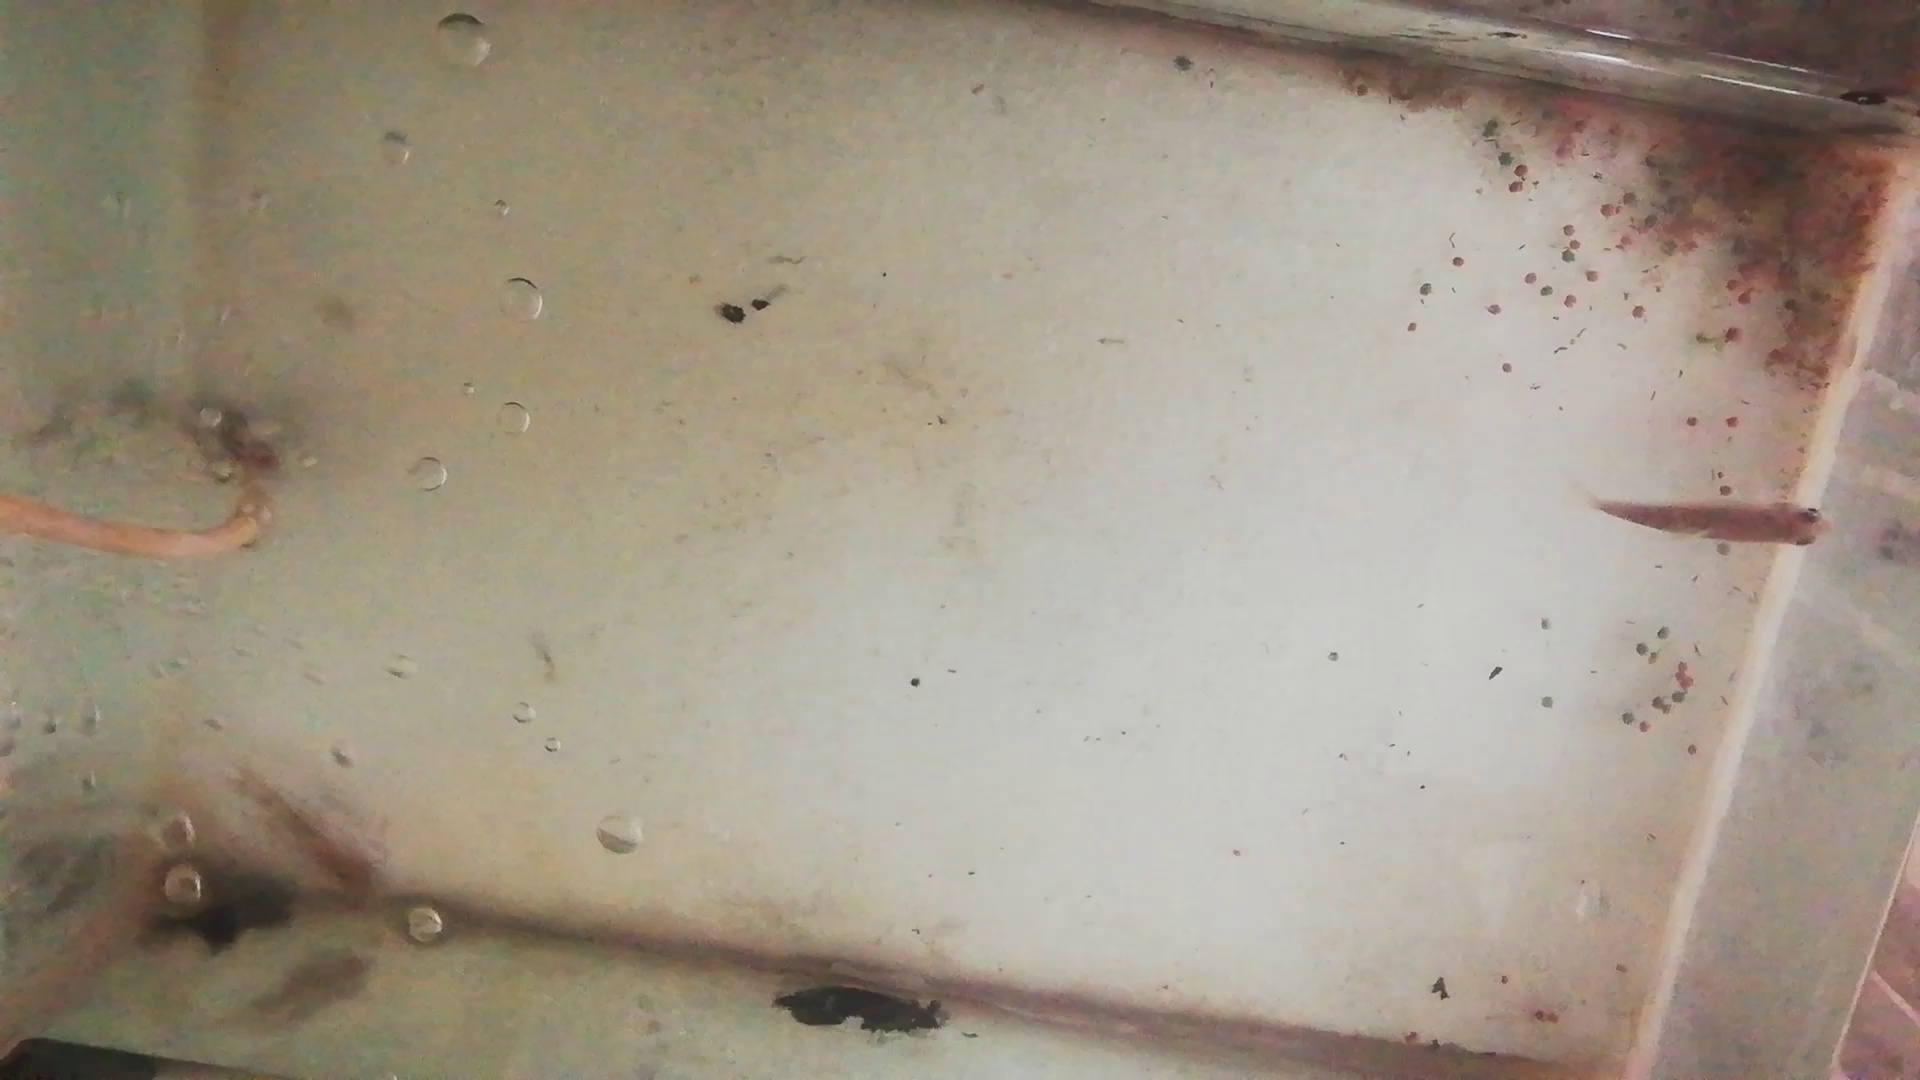fish: (232, 775, 384, 905), (1596, 493, 1830, 553)
